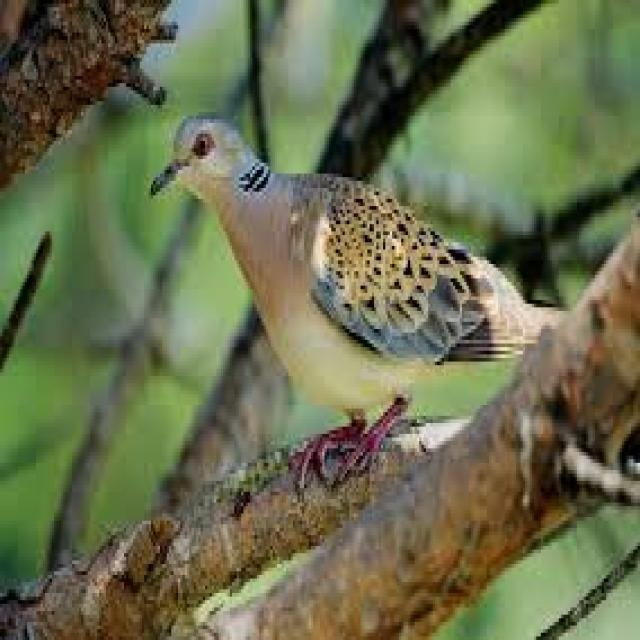pigeon: (147, 87, 577, 455)
